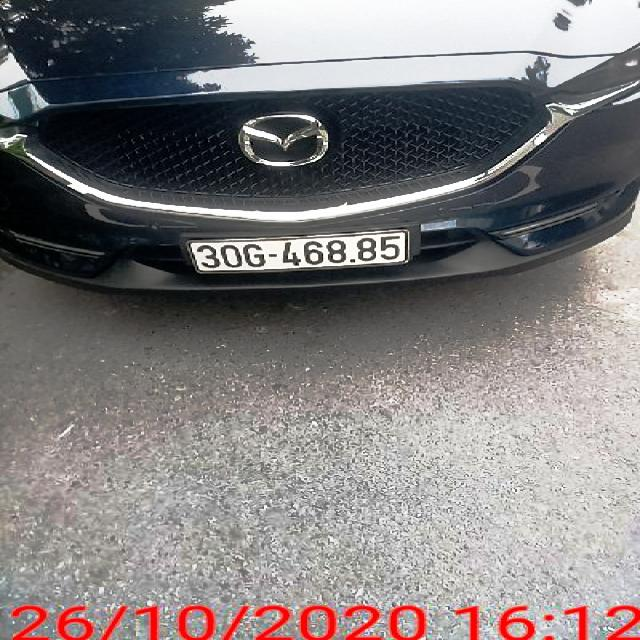license_plate: (189, 232, 410, 274)
